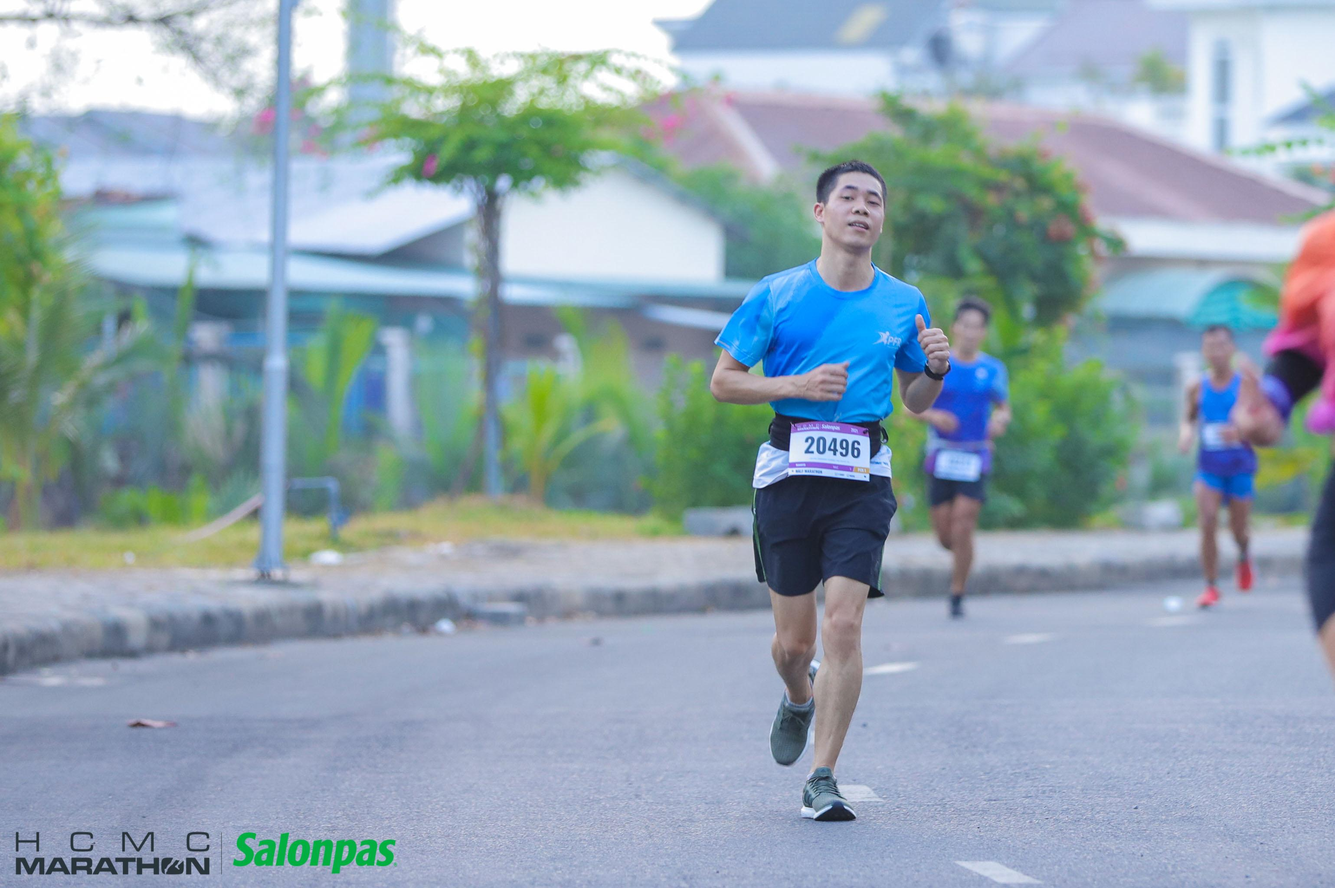bib: (790, 421, 871, 484), (935, 451, 982, 484)
